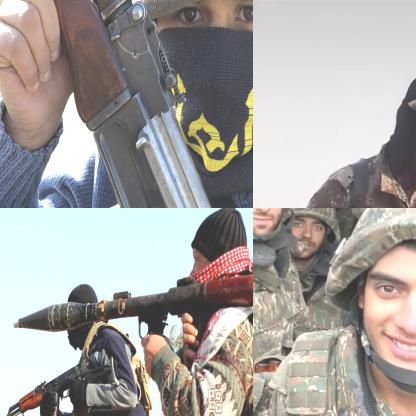rifle: (0, 0, 236, 207), (10, 245, 252, 347), (0, 349, 121, 415)
